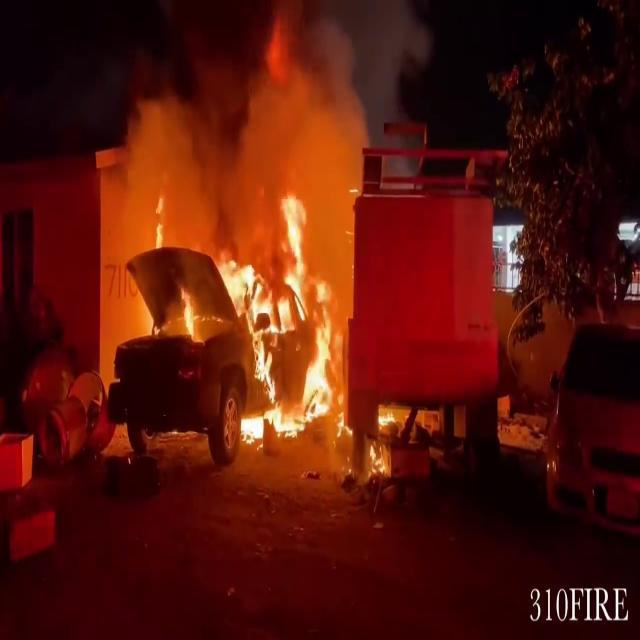Fire: (220, 184, 336, 446)
Smoke: (114, 0, 433, 224)
